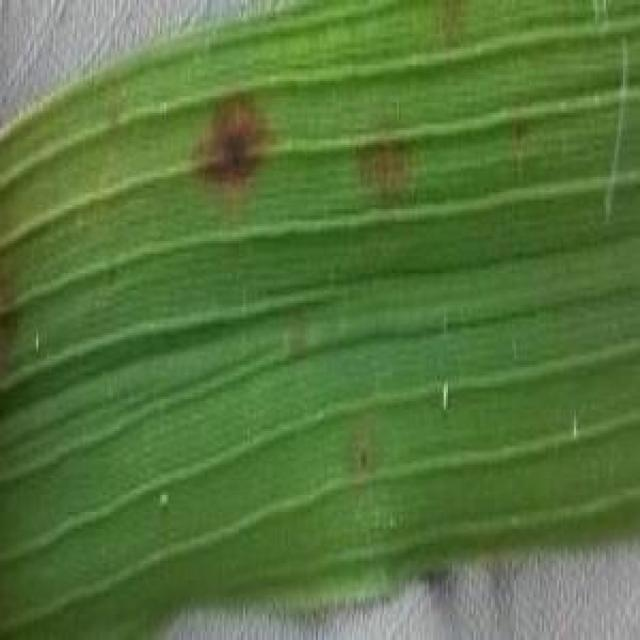brownspots: (184, 94, 278, 190), (354, 120, 418, 194)
